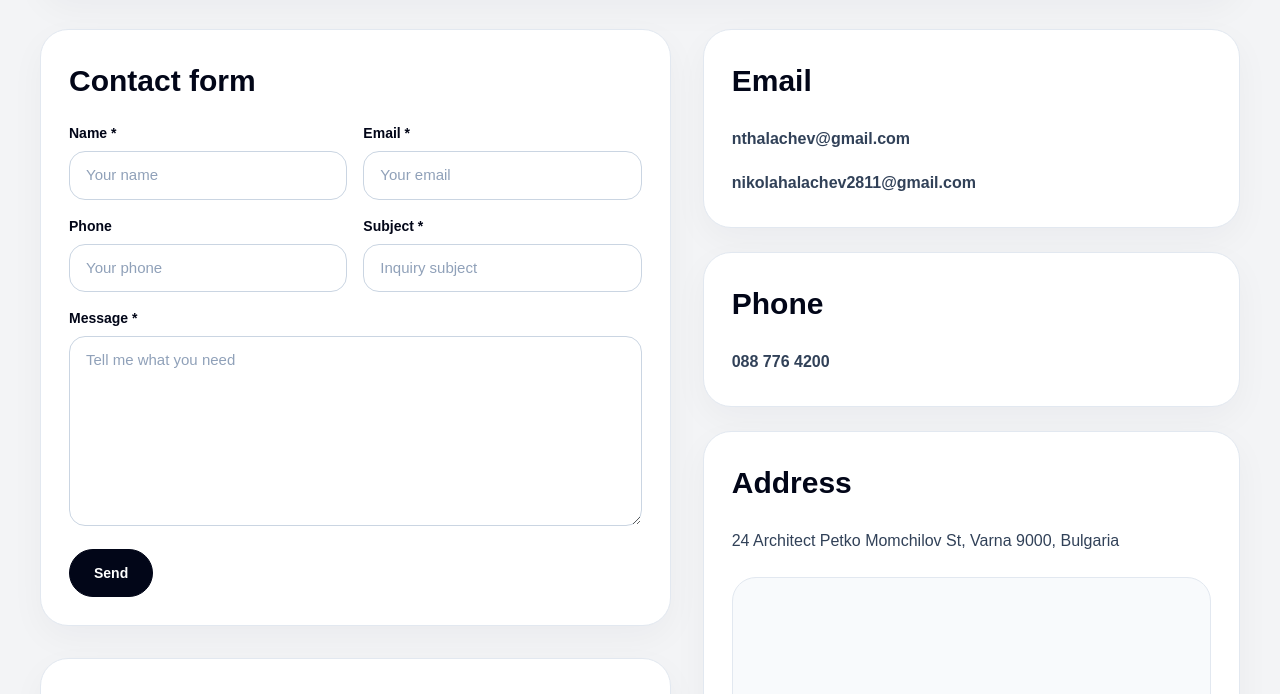
Test: Contact › submits every English field and shows the English error on a failed HTTP response
This screenshot has width=1280, height=694.
(page scrolled)
In the field labelled "Name *": (208, 175) top-left (69, 151), bottom-right (347, 200), type " John "
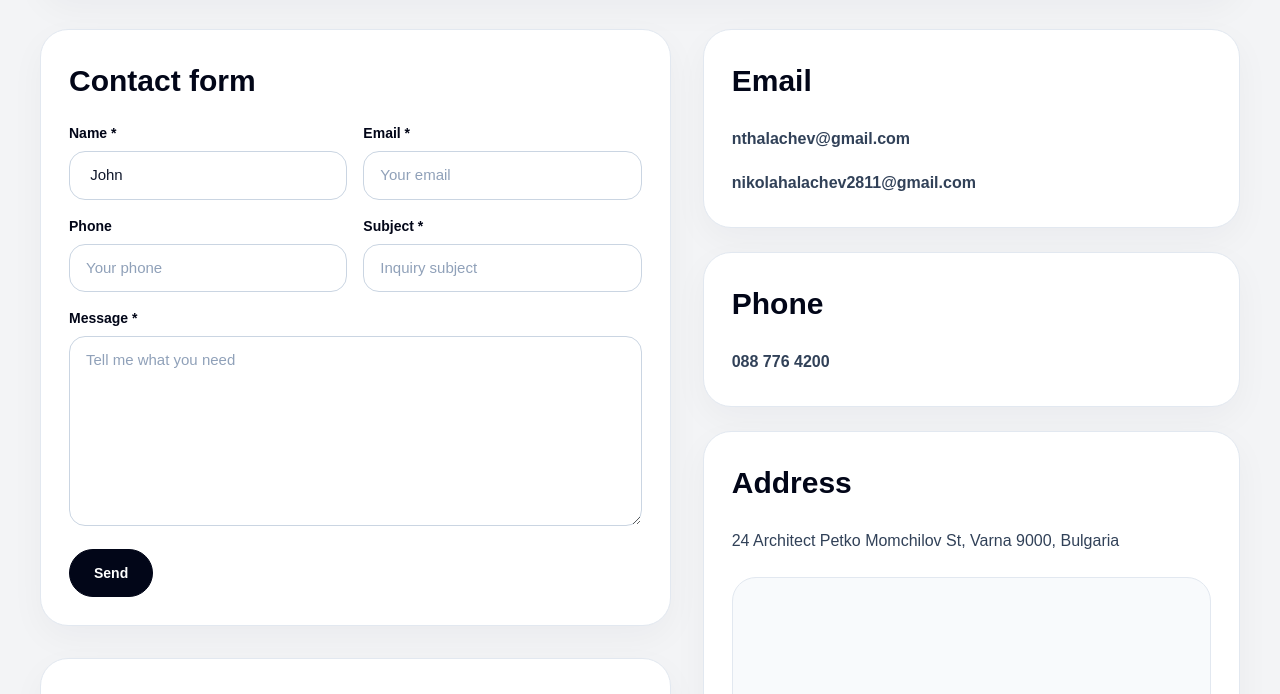
In the field labelled "Email *": (503, 175) top-left (363, 151), bottom-right (642, 200), type " john@example.com "
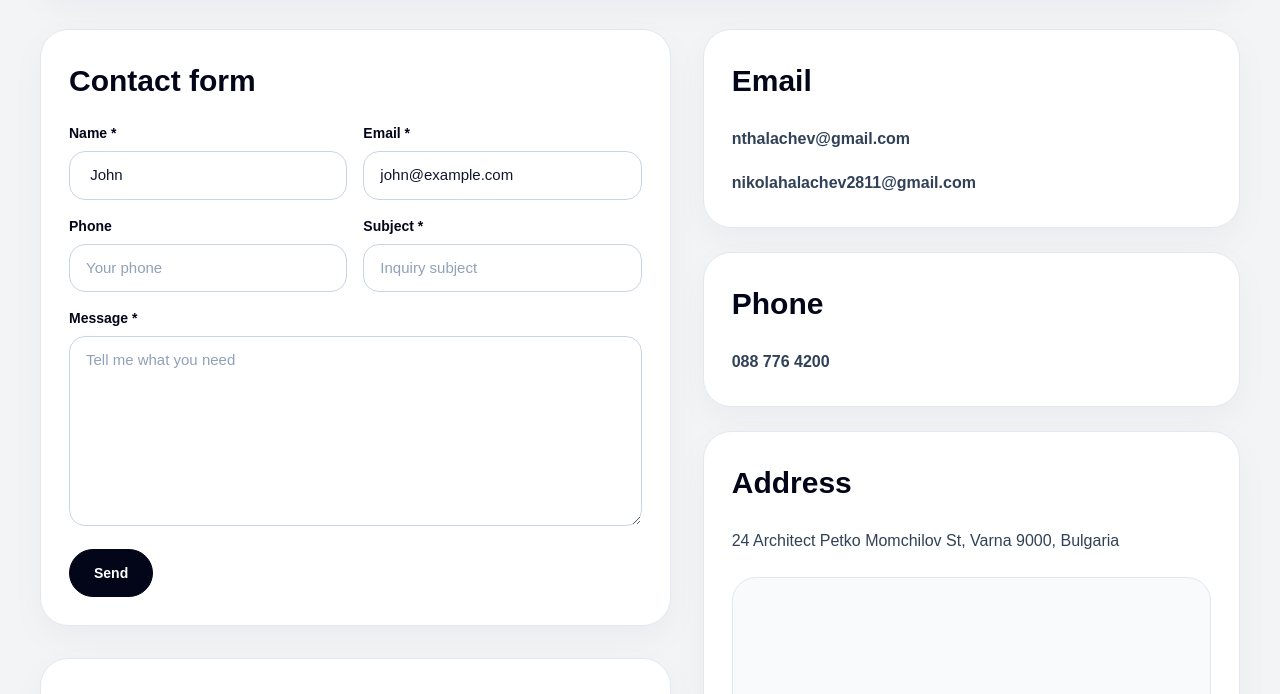
In the field labelled "Phone": (208, 268) top-left (69, 244), bottom-right (347, 292), type " 123 "
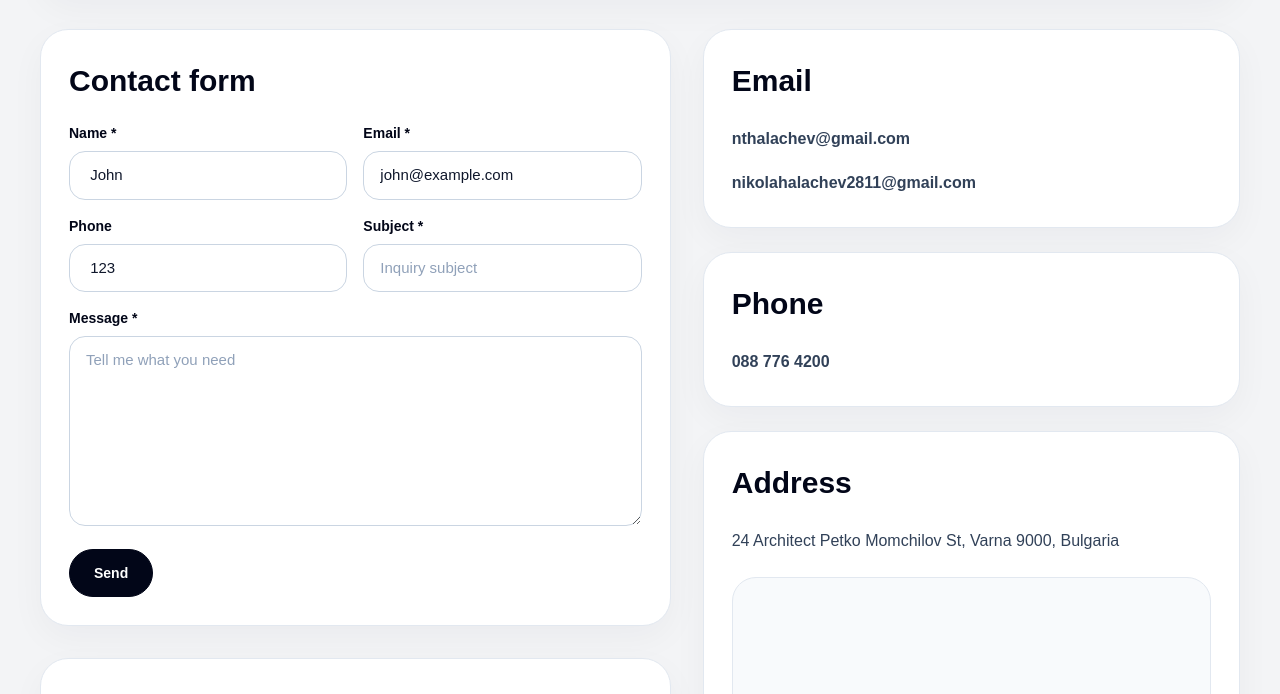
In the field labelled "Subject *": (503, 268) top-left (363, 244), bottom-right (642, 292), type " Help "
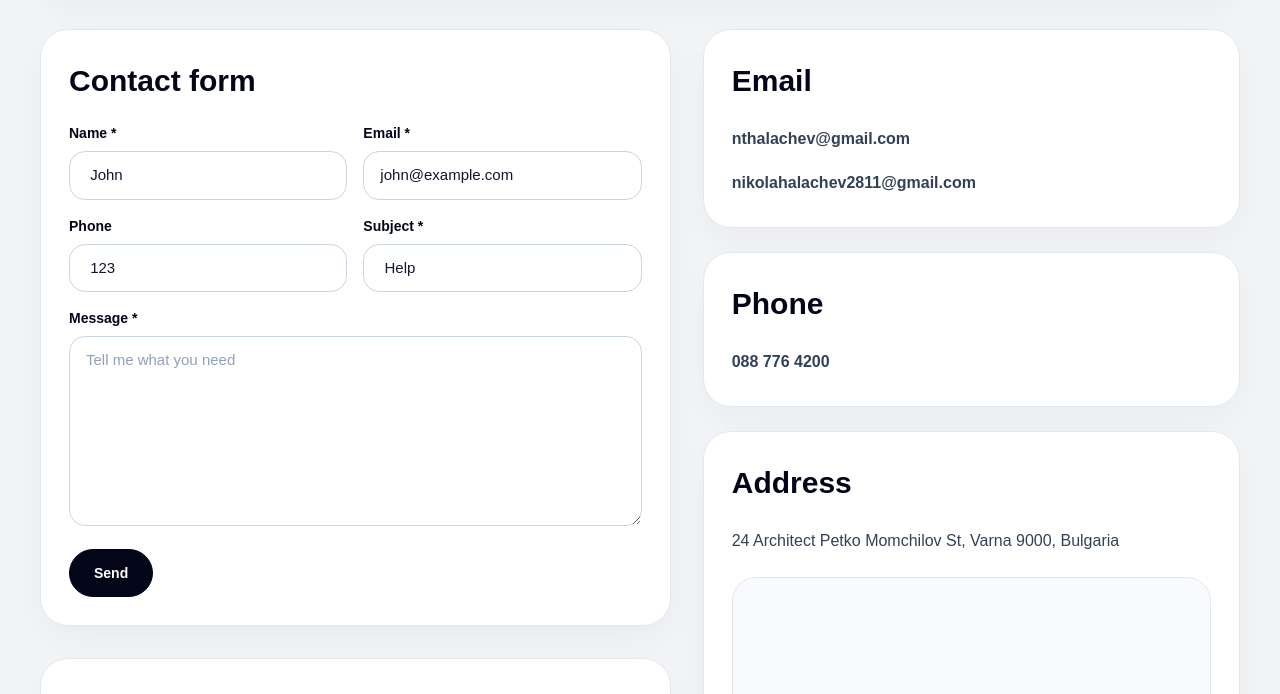
In the text box labelled "Message *": (355, 431) top-left (69, 336), bottom-right (642, 526), type " Please help with accounting services. "
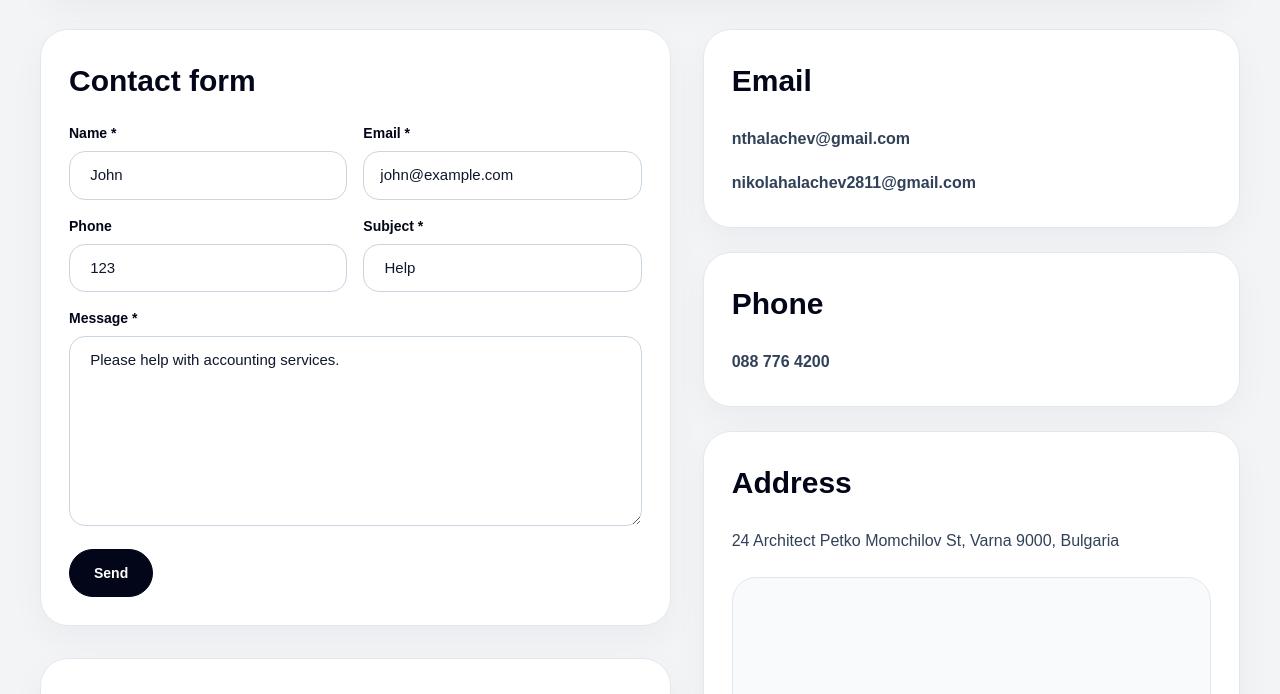
Submit the form, box top-left (69, 123), bottom-right (642, 597)
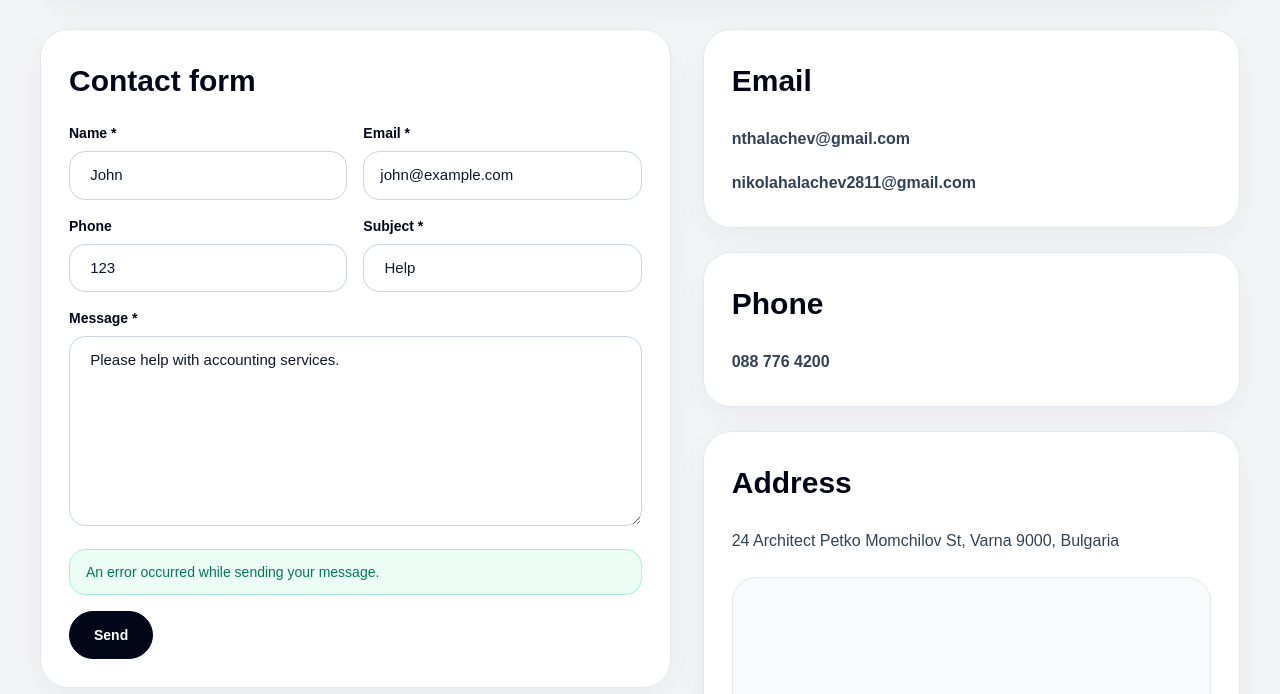
Expected: the button "Send" is enabled, top-left (69, 611), bottom-right (153, 659)
Expected: the text "An error occurred while sending your message." is shown, top-left (69, 549), bottom-right (642, 595)
